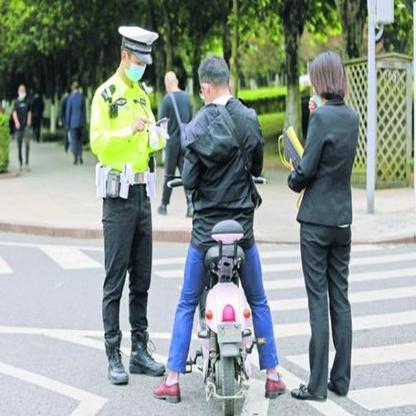target: (156, 55, 284, 410)
